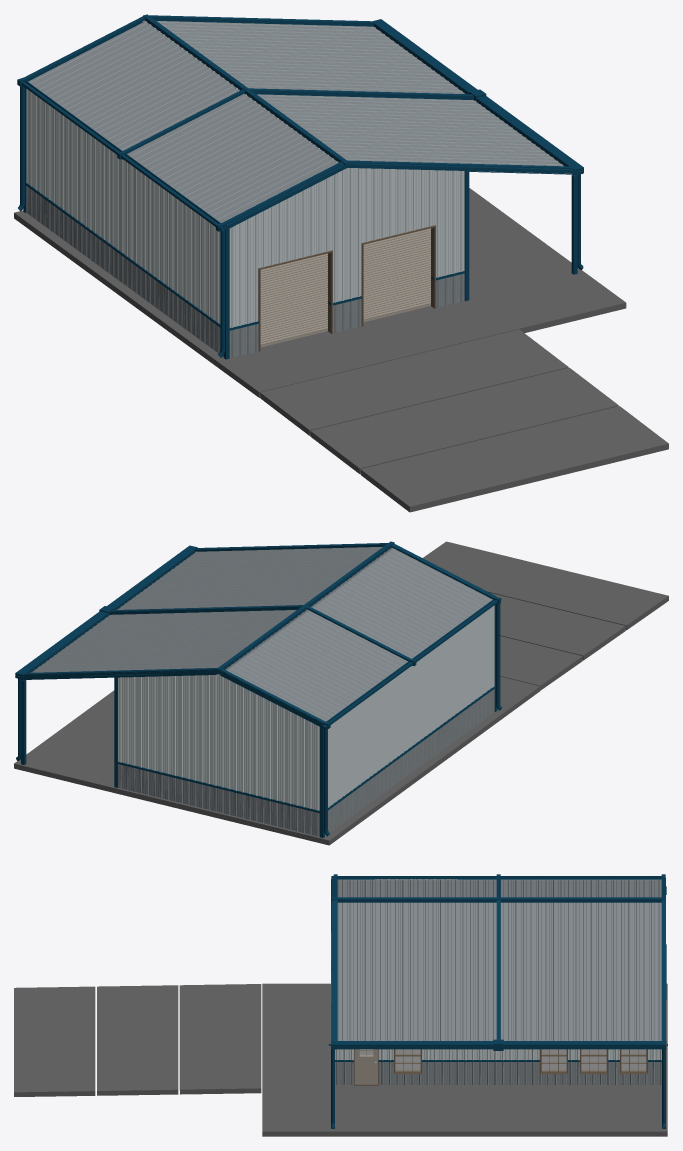
File: Warehouse 2 - FBX Export.fbx
3 renders of one model, top to bottom at view 1: azimuth 30°, elevation 25°; view 2: azimuth 150°, elevation 25°; view 3: azimuth 270°, elevation 25°, orthographic. The views are drawn at different scales.
Parts seen in each view (by area): view 1: Base, Roof, Upper Wall, Roof Trim, Lower Wall, Left Gate, Right Gate, Supports, Frames, Boundary, Drainpipe 1; view 2: Roof, Upper Wall, Base, Roof Trim, Lower Wall, Supports, Boundary, Drainpipe 1; view 3: Base, Roof, Roof Trim, Lower Wall, Upper Wall, Door, Frames, Glass.004, Glass.001, Glass.003, Glass.002.
Part boxes in pixels (<box>): Base: <box>14,188,668,512</box>; Roof: <box>28,20,570,230</box>; Upper Wall: <box>26,89,464,327</box>; Roof Trim: <box>17,14,583,231</box>; Lower Wall: <box>26,186,464,357</box>; Left Gate: <box>260,253,327,347</box>; Right Gate: <box>363,228,430,322</box>; Supports: <box>23,22,577,359</box>; Frames: <box>258,225,435,351</box>; Boundary: <box>25,183,465,330</box>; Drainpipe 1: <box>218,230,225,357</box>; Roof: <box>30,546,492,721</box>; Upper Wall: <box>118,605,494,810</box>; Base: <box>14,541,668,845</box>; Roof Trim: <box>15,541,501,728</box>; Lower Wall: <box>118,689,494,836</box>; Supports: <box>21,549,497,837</box>; Boundary: <box>117,686,495,813</box>; Drainpipe 1: <box>496,603,501,710</box>; Base: <box>14,983,667,1136</box>; Roof: <box>337,879,661,1040</box>; Roof Trim: <box>328,874,667,1050</box>; Lower Wall: <box>335,1062,661,1084</box>; Upper Wall: <box>335,879,661,1060</box>; Door: <box>354,1049,377,1084</box>; Frames: <box>331,932,647,1085</box>; Glass.004: <box>581,1049,606,1071</box>; Glass.001: <box>395,1049,420,1071</box>; Glass.003: <box>621,1049,646,1071</box>; Glass.002: <box>541,1049,566,1071</box>.
Bounding box in the file's own units: 26.36 × 12.17 × 49.28.
